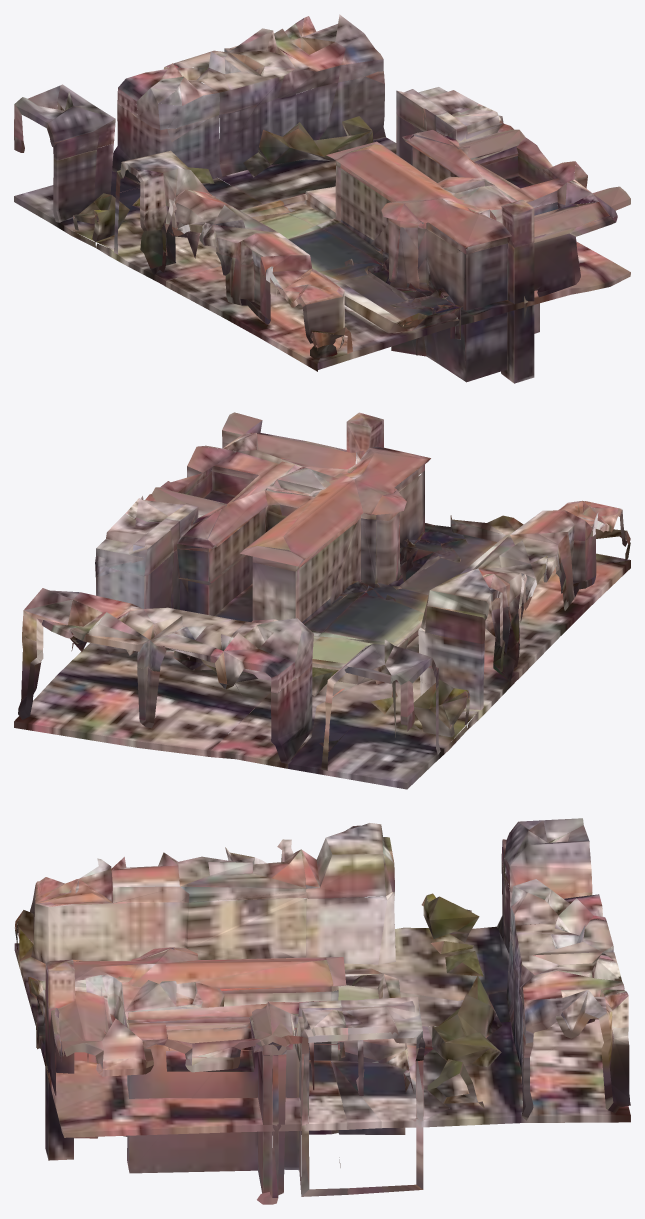
3 renders of one model, top to bottom at view 1: azimuth 30°, elevation 25°; view 2: azimuth 150°, elevation 25°; view 3: azimuth 270°, elevation 25°, orthographic. The views are drawn at different scales.
Visible parts, largest first — view 1: Mesh_0; view 2: Mesh_0; view 3: Mesh_0.
Boxes of the visible parts, <box> form: Mesh_0: <box>14,14,630,383</box>; Mesh_0: <box>14,412,630,789</box>; Mesh_0: <box>14,818,630,1204</box>.
Size of the model in its own units: 133 by 61 by 165.
2 materials, 2 textured.
